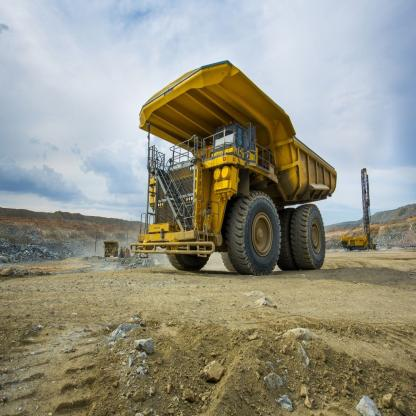dump_truck: (136, 55, 340, 276)
